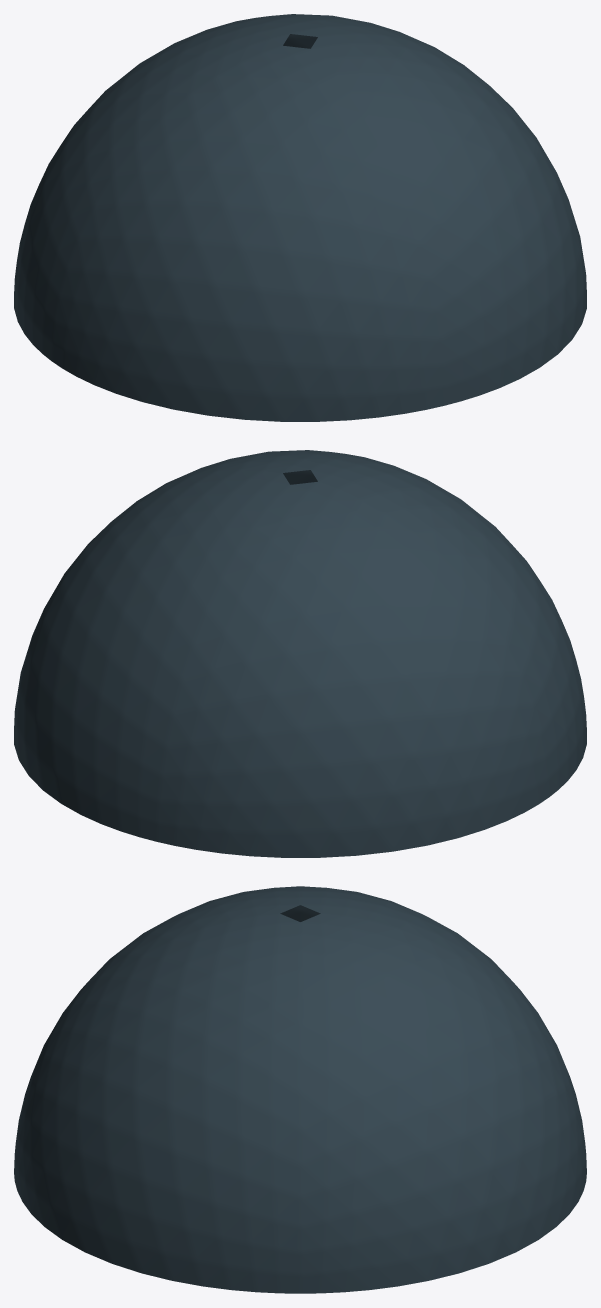
Rendered from Dome4.fbx.
The picture shows the model from 3 angles, top to bottom: view 1: azimuth 30°, elevation 25°; view 2: azimuth 150°, elevation 25°; view 3: azimuth 270°, elevation 25°; orthographic projection.
Visible parts, largest first — view 1: Sphere_1; view 2: Sphere_1; view 3: Sphere_1.
Part boxes in pixels (box(x1,y1,x2,y2)): Sphere_1: box(14, 14, 586, 421); Sphere_1: box(14, 450, 586, 857); Sphere_1: box(14, 886, 586, 1293).
Bounding box in the file's own units: 2384 × 1189 × 2384.
